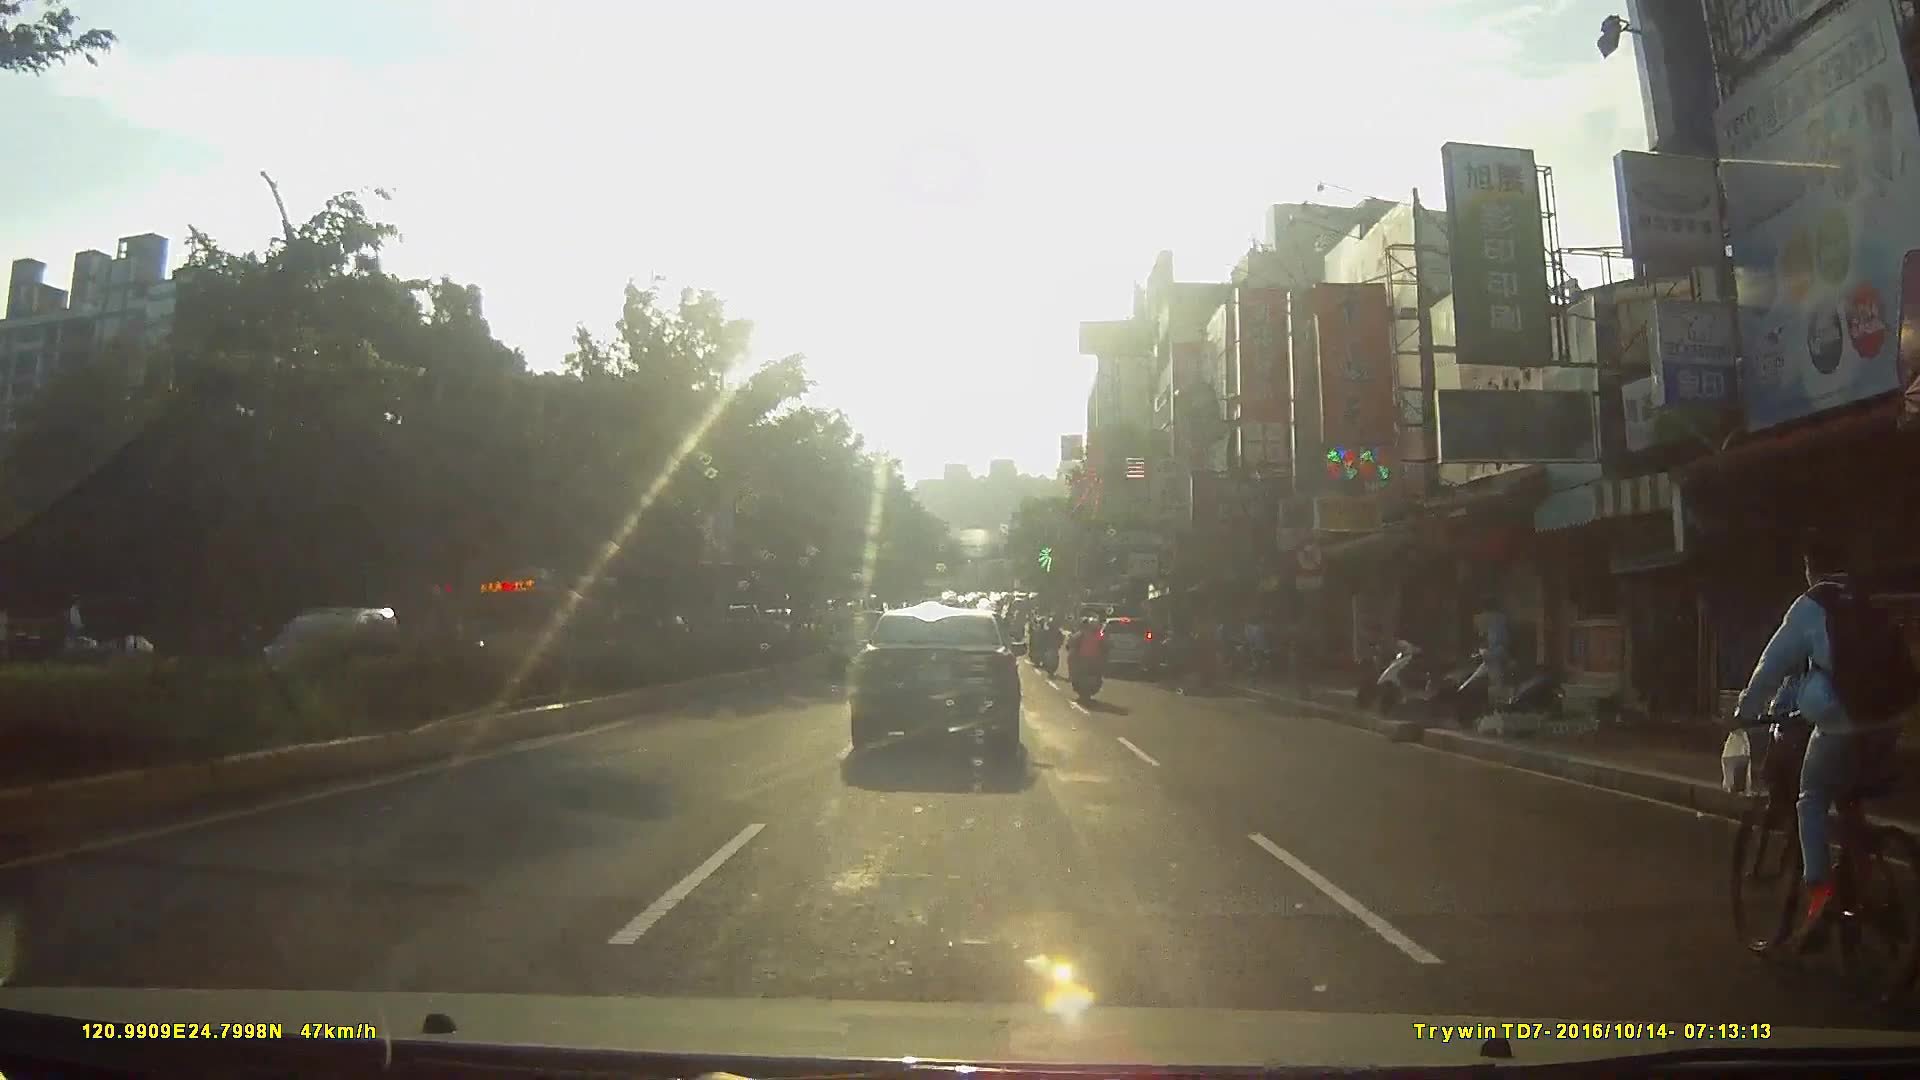pedestrian: (1475, 588, 1515, 684)
rider: (1719, 527, 1913, 1018), (1063, 613, 1108, 709), (1035, 615, 1065, 681)
vehicle: (845, 593, 1040, 767), (1090, 608, 1162, 674)
